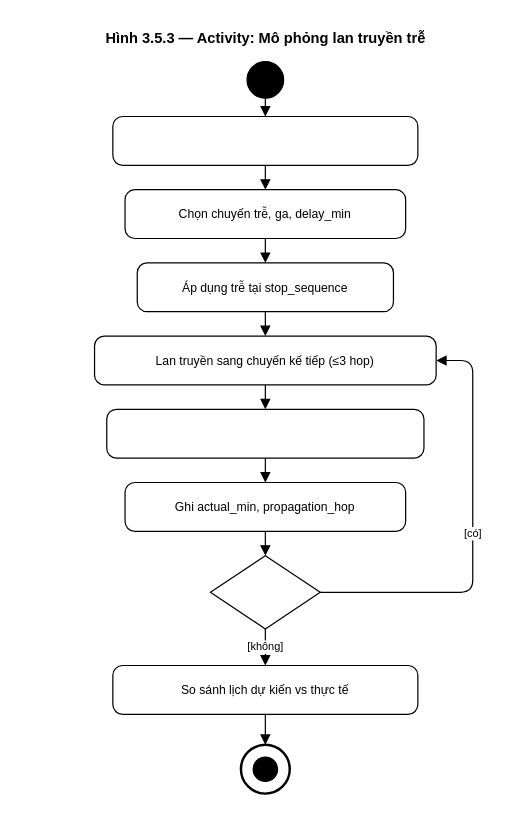
This 529x815 diagram has some shape labels left out. Here are the shapes that lost their labels. From the top down, the centre of each, then its label:
point 265,140: Nạp lịch tối ưu (station schedule)
point 265,433: Hồi phục dwell_recovery tại mỗi ga
point 264,591: Còn chuyến bị ảnh hưởng?
